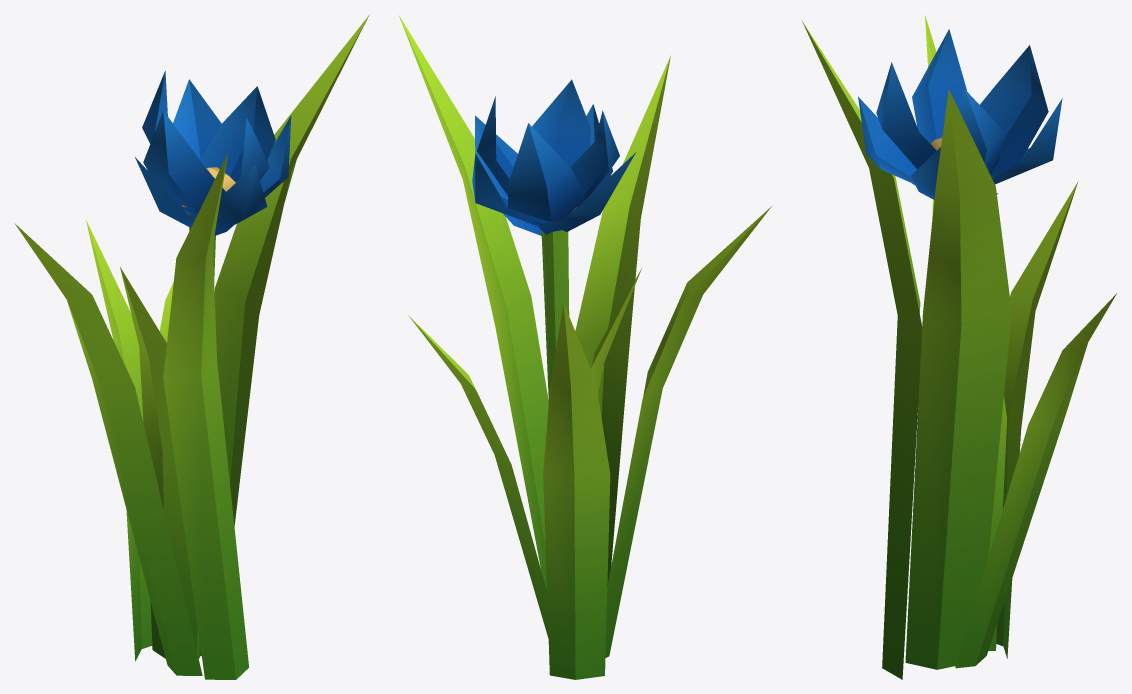
3 renders of one model, left to right at view 1: azimuth 30°, elevation 25°; view 2: azimuth 150°, elevation 25°; view 3: azimuth 270°, elevation 25°, orthographic. The views are drawn at different scales.
Visible parts, largest first — view 1: FlowerBlue; view 2: FlowerBlue; view 3: FlowerBlue.
Part boxes in pixels (box(x1,y1,x2,y2)): FlowerBlue: box(14, 14, 369, 679); FlowerBlue: box(399, 15, 772, 679); FlowerBlue: box(802, 15, 1116, 679).
Bounding box in the file's own units: 0.6018 × 0.9501 × 0.4068.
1 material, 1 textured.
